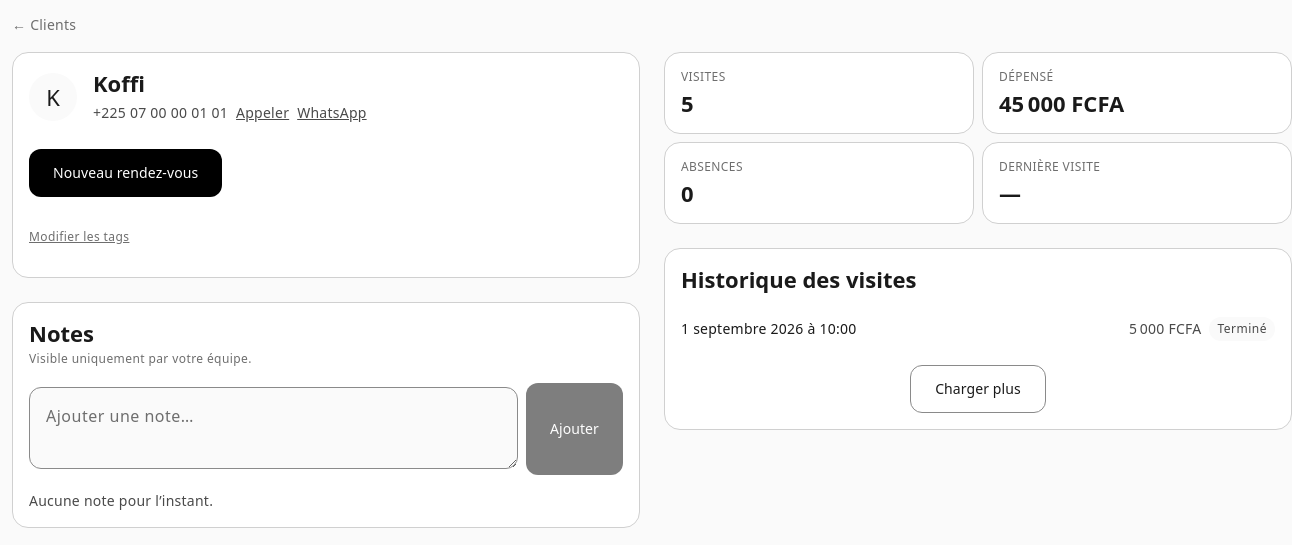
Test: La fiche client — the visit history (B4.1) › « Charger plus » with no network: « Pas de connexion. Réessayez. »
The width and height of the screenshot is (1292, 545).
Click the button "Charger plus" at (978, 389), box [910,365,1046,413]
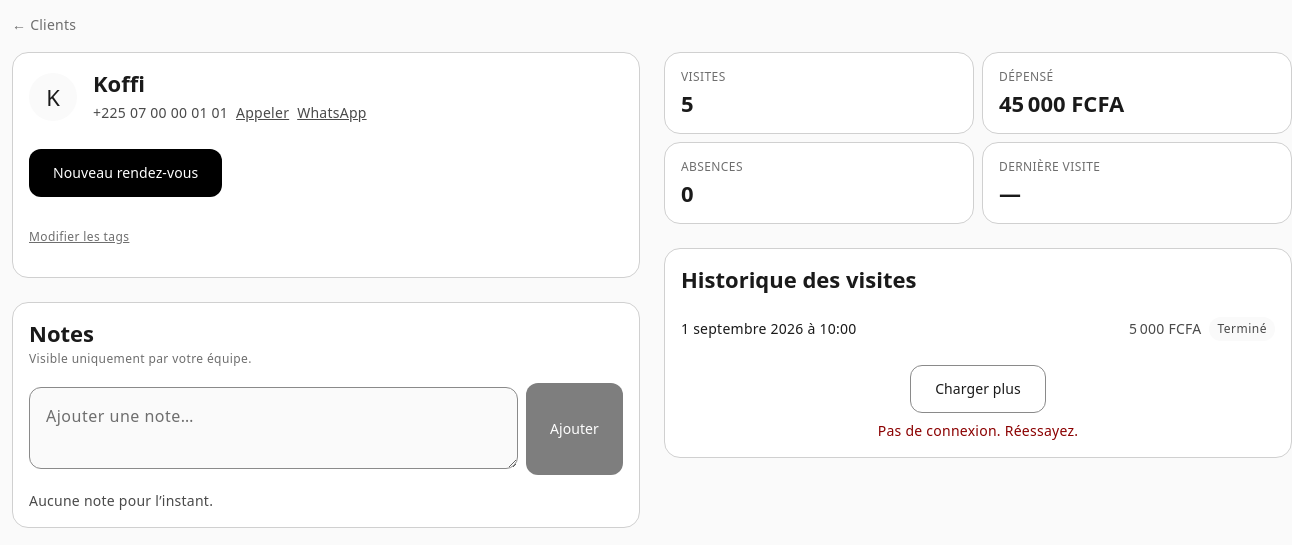
Result: the text "Pas de connexion. Réessayez." is shown at [878,421,1078,440]
